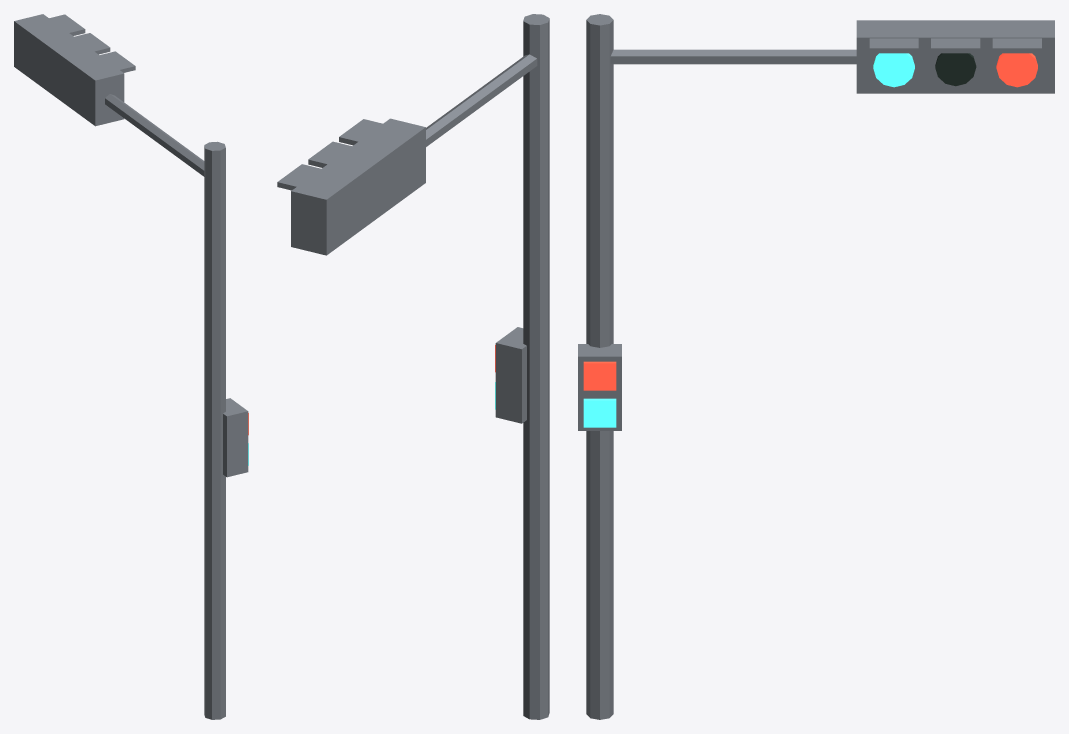
Rendered from trafikljus.glb.
3 renders of one model, left to right at view 1: azimuth 30°, elevation 25°; view 2: azimuth 150°, elevation 25°; view 3: azimuth 270°, elevation 25°, orthographic. The views are drawn at different scales.
Parts seen in each view (by area): view 1: Stolpe; view 2: Stolpe; view 3: Stolpe, Gron, Rod.
Part boxes in pixels (x1,y1,x2,y2): Stolpe: (14,14,248,719); Stolpe: (277,14,549,719); Stolpe: (578,14,1054,719); Gron: (583,53,914,427); Rod: (583,53,1037,390).
Bounding box in the file's own units: 0.47 × 5.6 × 3.48.
